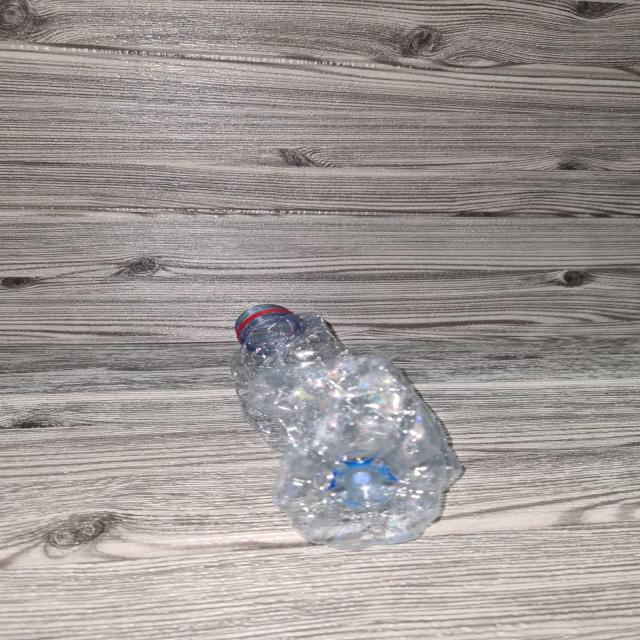bottle: (230, 296, 472, 550)
